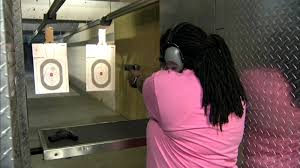gun: (121, 62, 143, 81)
